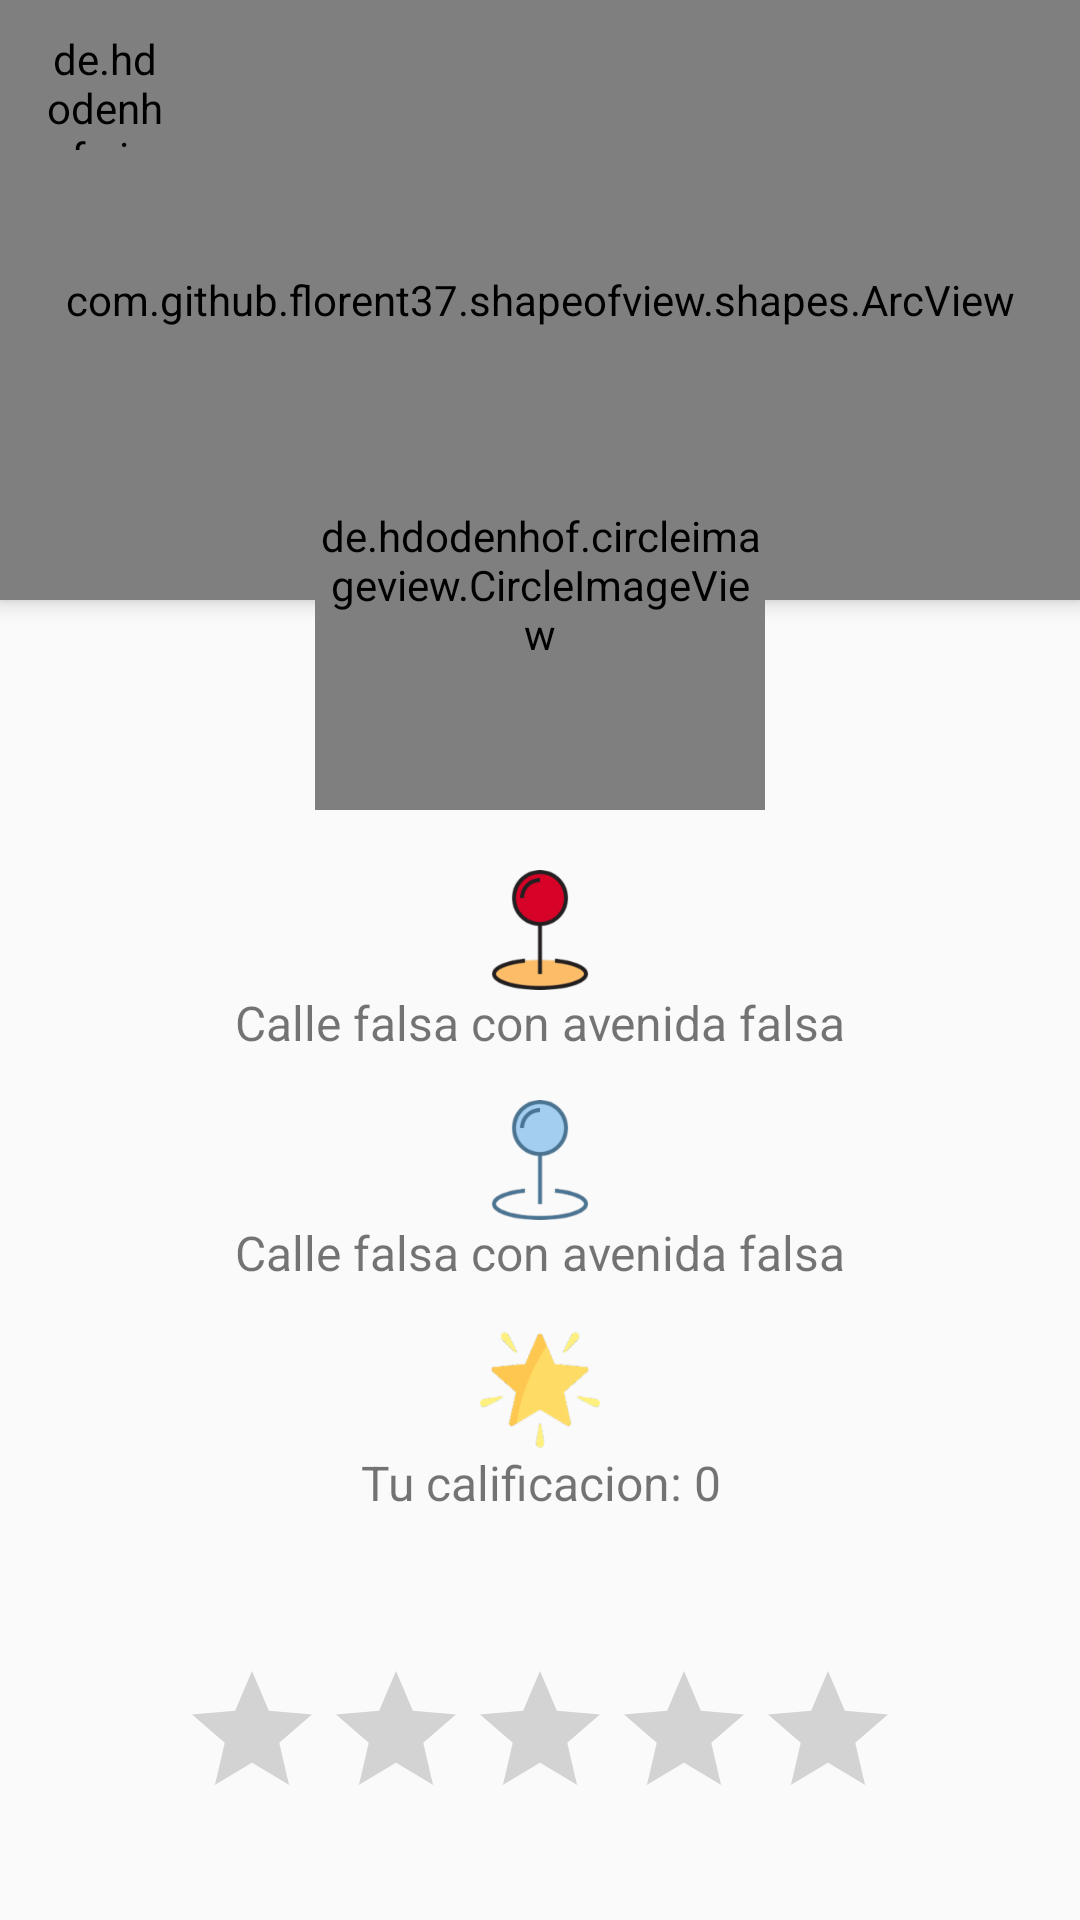

Screen size 1080w x 1920h. Icon name, then its box in pixels as (x1, y1, x2, y2):
estrella: (480, 1332, 600, 1448)
pin: (492, 870, 588, 990), (492, 1100, 588, 1220)
